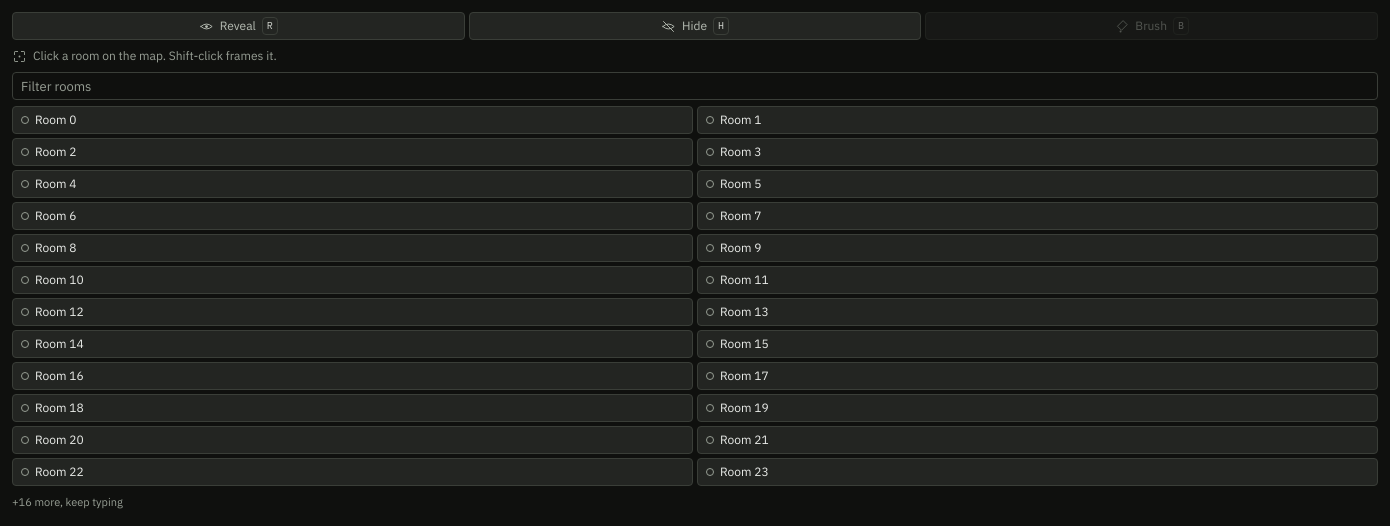
Test: the room grid ceiling › 40 rooms: typing narrows the grid to the match
Type "Room 1" into the field with test id "fog-filter" at (695, 86), box [12,72,1378,100]
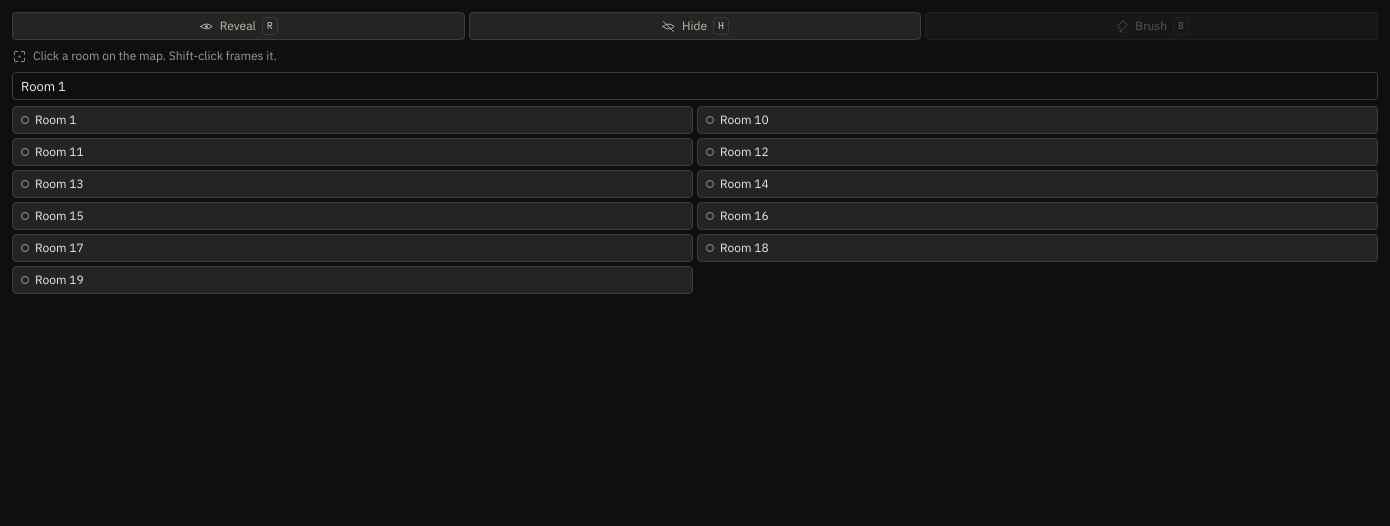
Expected: the text "more, keep typing" is gone
